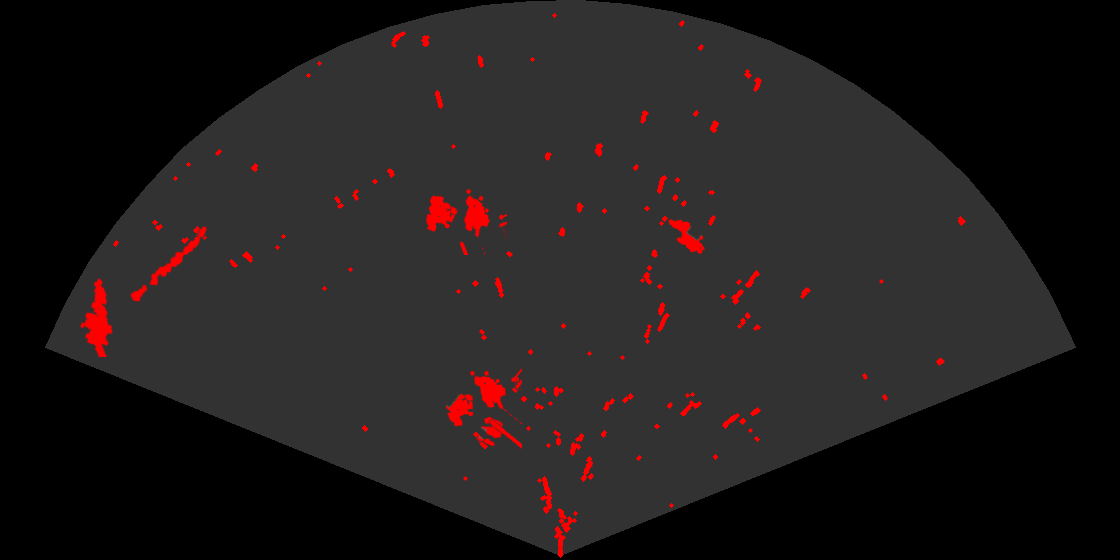AUV: (667, 218, 706, 256)
ball: (475, 415, 506, 448)
cage: (444, 367, 522, 449), (424, 187, 507, 255)
chain: (129, 225, 209, 303)
frogman: (78, 277, 114, 357)
